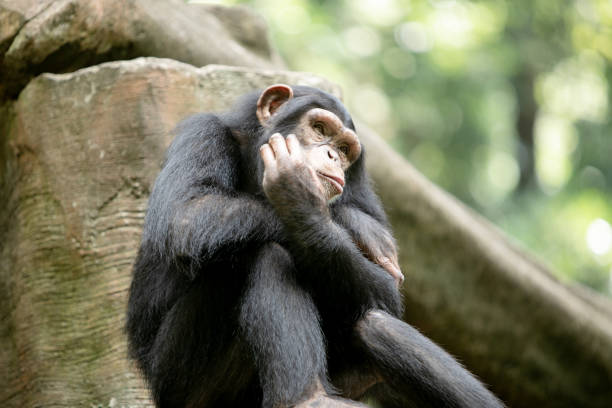chimpanzee: (242, 76, 361, 213)
